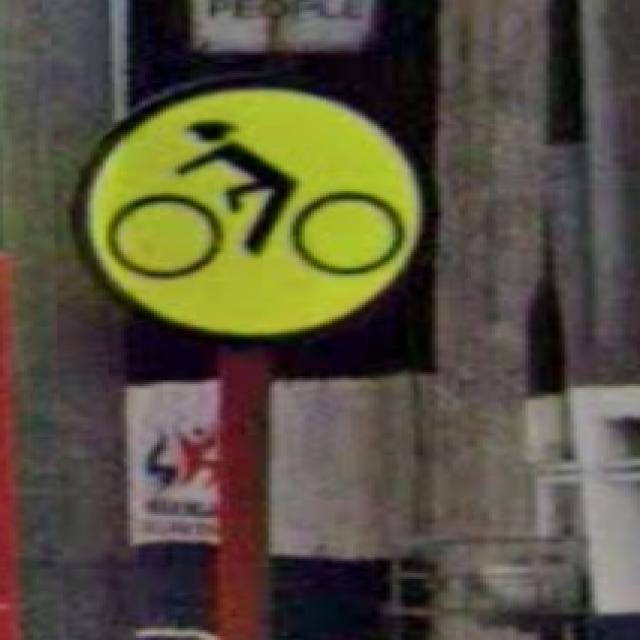bike lane: (66, 75, 429, 337)
